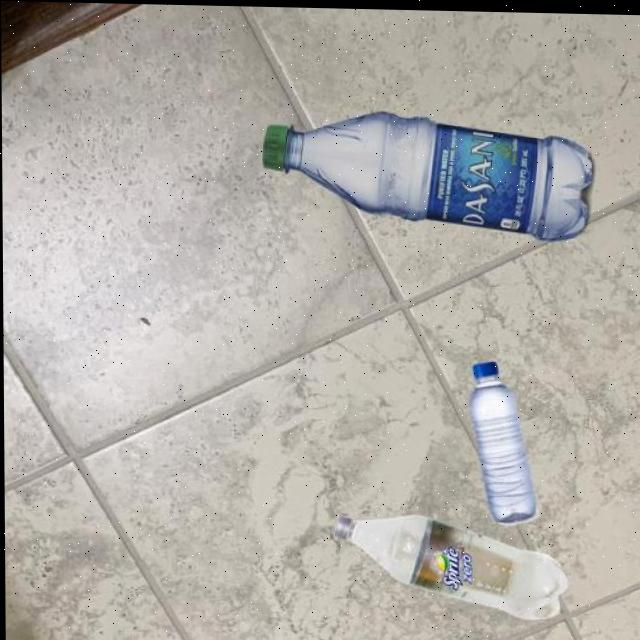bottle: (261, 107, 595, 242), (330, 508, 569, 620), (467, 358, 538, 524)
